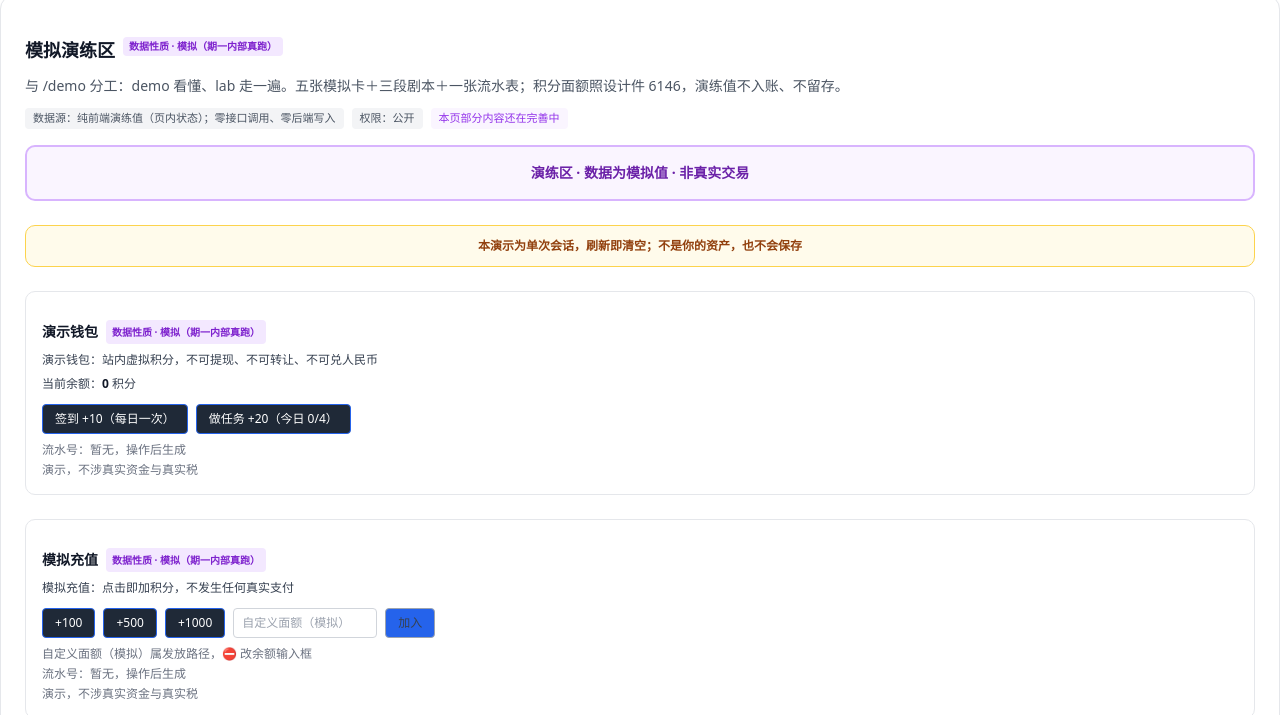
it: B26 演练区：流水表八字段全值＋筛选＋导出复制 › 一笔流水八字段全值（流水号／+08 时点／类型／场景／变动值／变动后余额／SIM-NCA／SIM-RUN）
Click the button with test id "lab-checkin".
click(115, 418)  # box [42, 404, 188, 434]
(page scrolled)
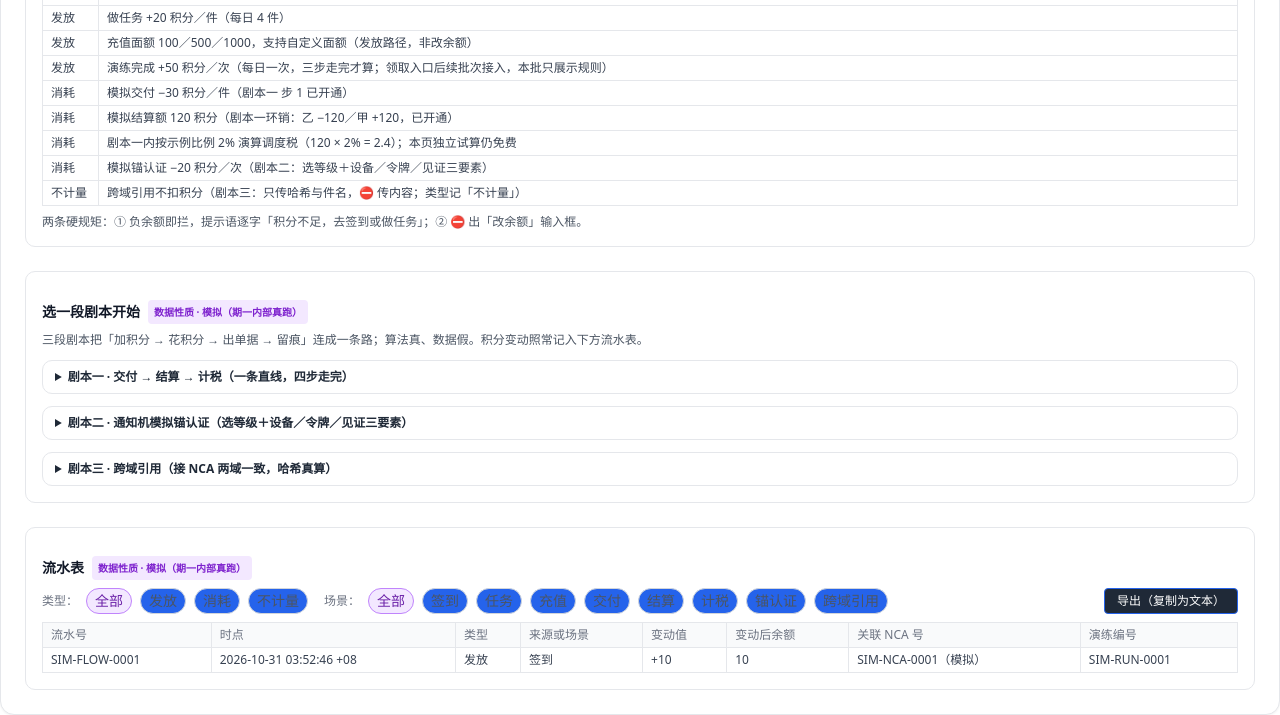
Expected: the row with test id "lab-flow-SIM-FLOW-0001" shows "SIM-FLOW-0001", [51, 650, 140, 668]
Expected: the row with test id "lab-flow-SIM-FLOW-0001" shows "发放", [464, 650, 488, 668]
Expected: the row with test id "lab-flow-SIM-FLOW-0001" shows "签到", [529, 650, 553, 668]
